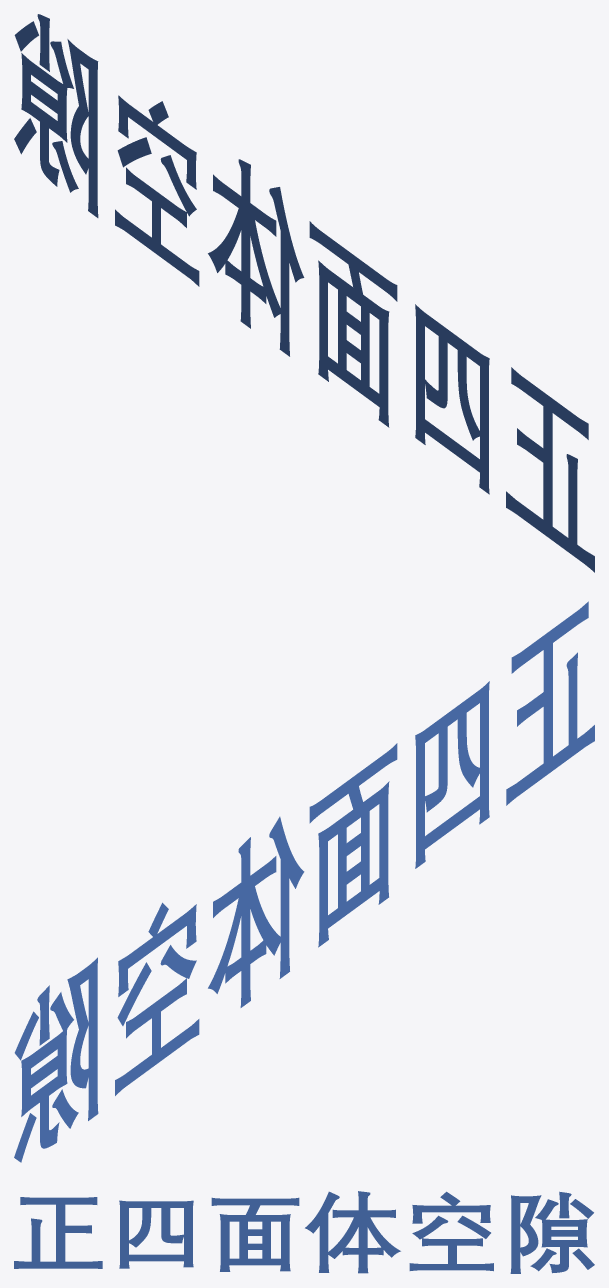
The picture shows the model from 3 angles, top to bottom: view 1: azimuth 30°, elevation 25°; view 2: azimuth 150°, elevation 25°; view 3: azimuth 270°, elevation 25°; orthographic projection. The views are drawn at different scales.
Visible parts, largest first — view 1: Text.006; view 2: Text.006; view 3: Text.006.
Part boxes in pixels (box(x1,y1,x2,y2)): Text.006: box(14, 14, 594, 572); Text.006: box(14, 601, 594, 1162); Text.006: box(14, 1191, 594, 1273).
Size of the model in its own units: 0.1109 by 76.29 by 485.
